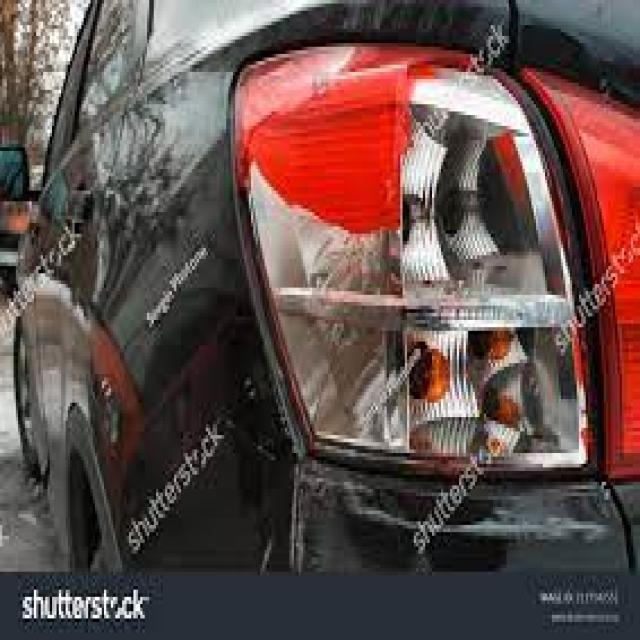Head Light: (227, 27, 622, 501)
